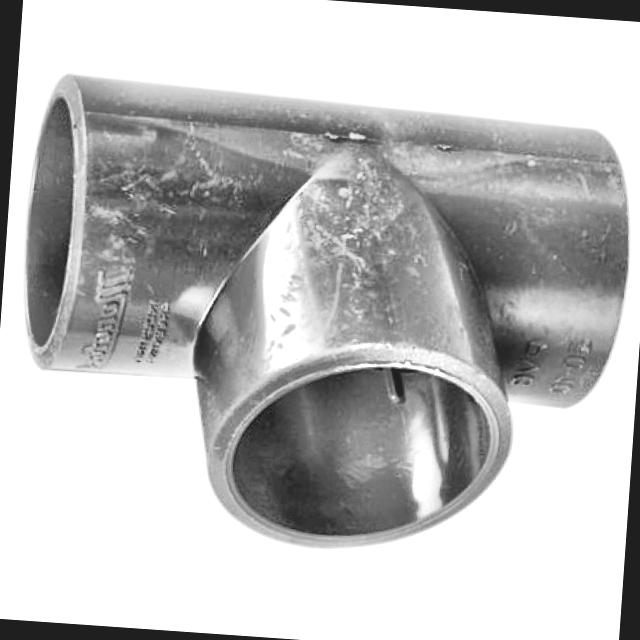EQUALTEE: (22, 75, 632, 550)
